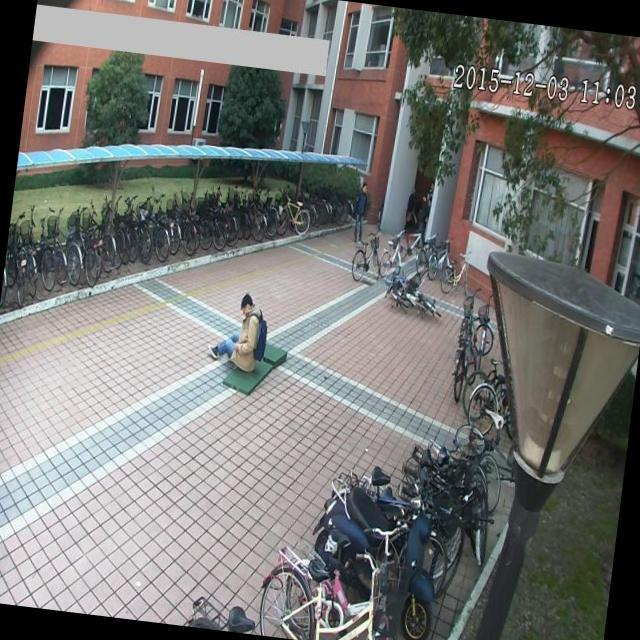person: (208, 283, 272, 378), (347, 175, 372, 247)
